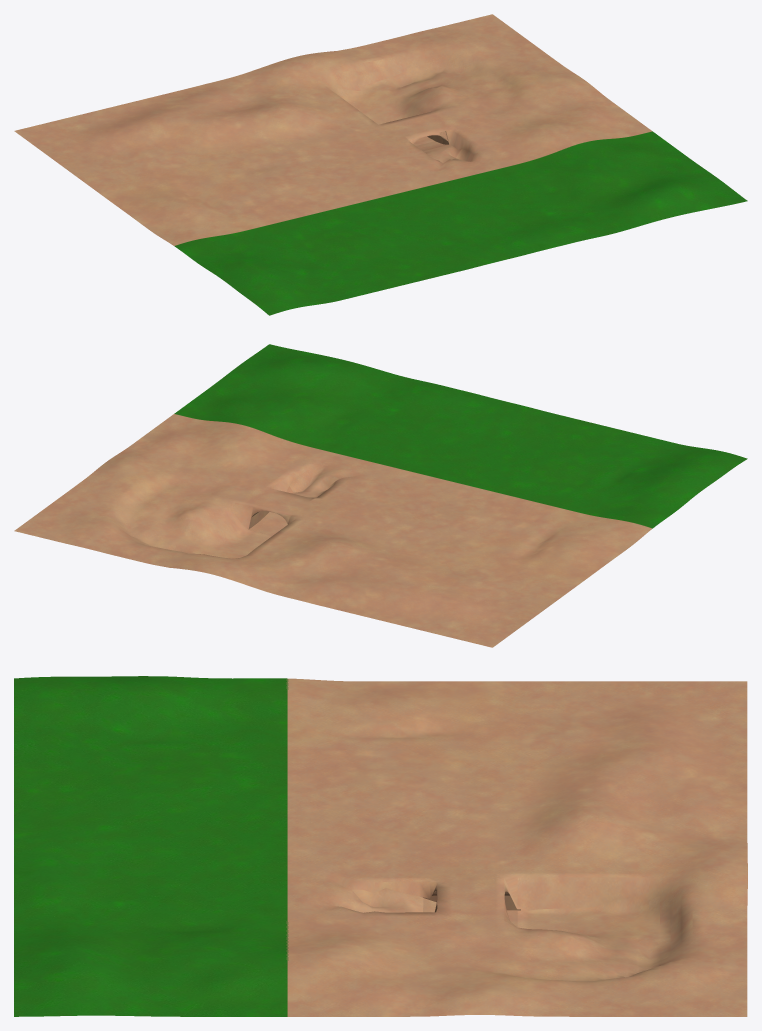
The model's file is ground.fbx.
3 renders of one model, top to bottom at view 1: azimuth 30°, elevation 25°; view 2: azimuth 150°, elevation 25°; view 3: azimuth 270°, elevation 25°, orthographic. The views are drawn at different scales.
Parts seen in each view (by area): view 1: Plane; view 2: Plane; view 3: Plane.
Part boxes in pixels (x1=…): Plane: x1=14, y1=14, x2=747, y2=315; Plane: x1=14, y1=344, x2=747, y2=647; Plane: x1=14, y1=676, x2=747, y2=1016.
Bounding box in the file's own units: 32804 × 1993 × 30330.
1 material, 1 textured.
